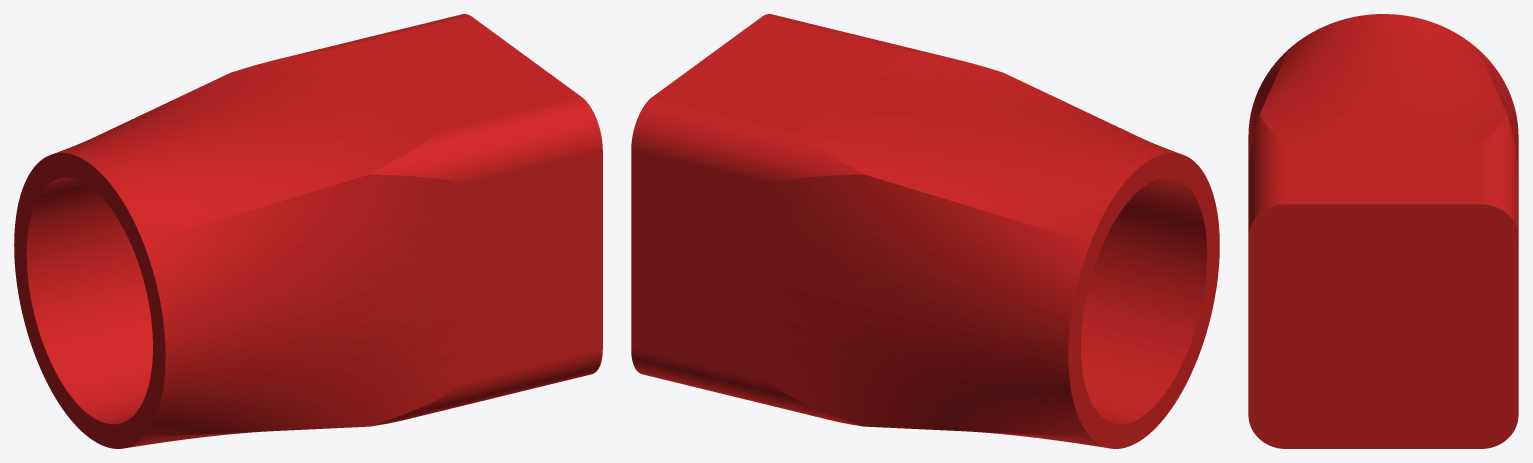
Rendered from 0_colored.obj.
3 renders of one model, left to right at view 1: azimuth 30°, elevation 25°; view 2: azimuth 150°, elevation 25°; view 3: azimuth 270°, elevation 25°, orthographic. The views are drawn at different scales.
Size of the model in its own units: 0.03 by 0.018 by 0.018.
